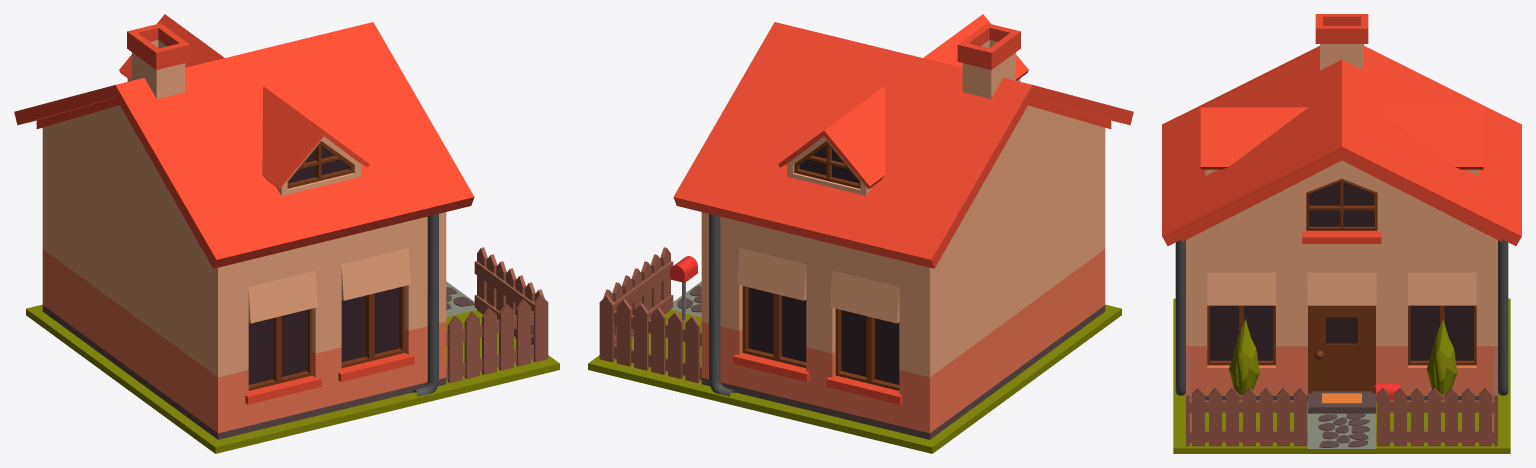
File: house_1.glb
3 views of the same model, side by side, from view 1: azimuth 30°, elevation 25°; view 2: azimuth 150°, elevation 25°; view 3: azimuth 270°, elevation 25° (orthographic). The views are drawn at different scales.
Parts seen in each view (by area): view 1: PublicBuilding_3_PublicBuilding_3_Building18_Cube.001; view 2: PublicBuilding_3_PublicBuilding_3_Building18_Cube.001; view 3: PublicBuilding_3_PublicBuilding_3_Building18_Cube.001.
Boxes of the visible parts, x1=… form: PublicBuilding_3_PublicBuilding_3_Building18_Cube.001: x1=14, y1=14, x2=559, y2=453; PublicBuilding_3_PublicBuilding_3_Building18_Cube.001: x1=588, y1=14, x2=1133, y2=453; PublicBuilding_3_PublicBuilding_3_Building18_Cube.001: x1=1162, y1=14, x2=1521, y2=453.
Size of the model in its own units: 3.68 by 3.39 by 3.69.
Materials: 1 (1 with a texture image).
